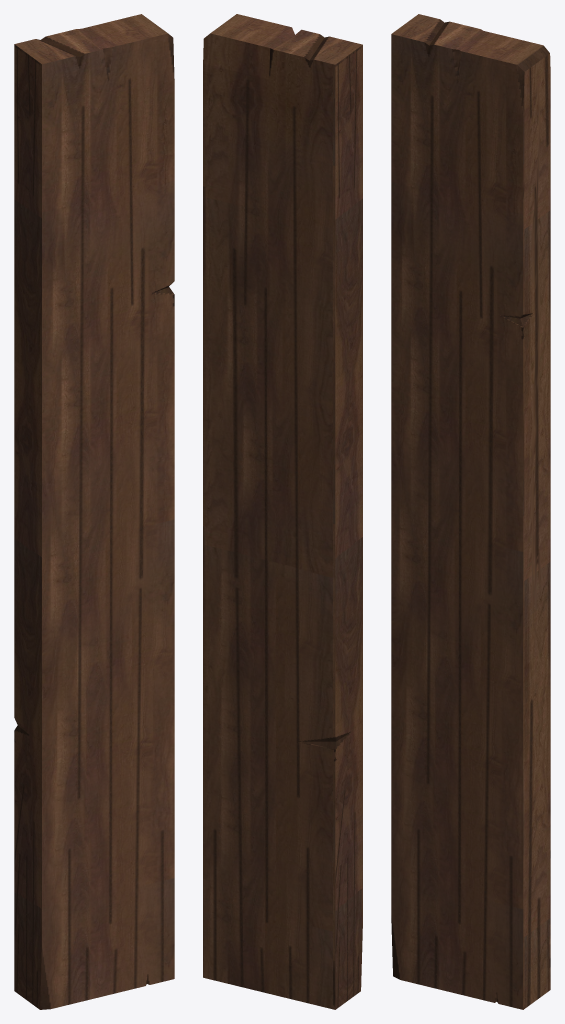
Rendered from plank.glb.
The picture shows the model from 3 angles, left to right: view 1: azimuth 30°, elevation 25°; view 2: azimuth 150°, elevation 25°; view 3: azimuth 330°, elevation 25°; orthographic projection.
Visible parts, largest first — view 1: Cube; view 2: Cube; view 3: Cube.
Boxes of the visible parts, x1=… form: Cube: x1=14, y1=14, x2=174, y2=1009; Cube: x1=203, y1=14, x2=362, y2=1009; Cube: x1=391, y1=14, x2=550, y2=1009.
Size of the model in its own units: 0.1951 by 1.33 by 0.0703.
Materials: 1 (1 with a texture image).
